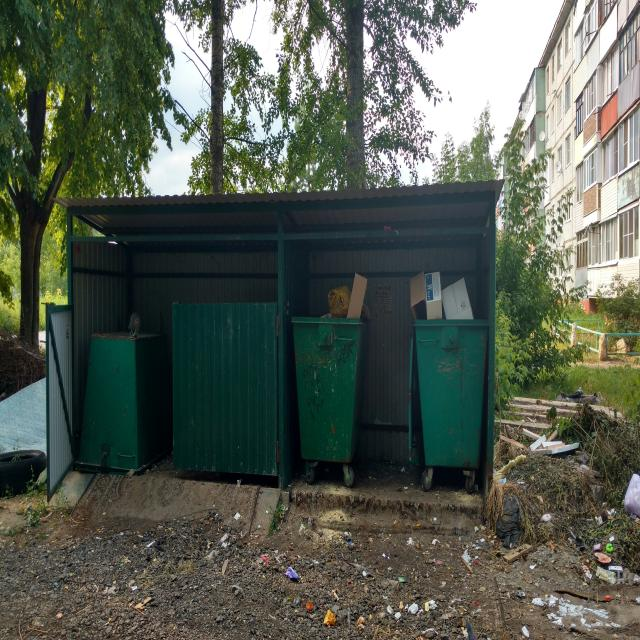bin: (76, 313, 175, 472), (408, 310, 489, 494), (291, 315, 369, 485)
plastic: (411, 271, 474, 319), (320, 273, 371, 322), (492, 487, 527, 548), (547, 597, 609, 627), (556, 387, 604, 406), (493, 454, 526, 479), (624, 473, 640, 519), (503, 544, 533, 564), (534, 441, 579, 454), (596, 566, 616, 585), (570, 529, 586, 552), (499, 435, 526, 448), (591, 619, 621, 629), (529, 434, 546, 451), (521, 428, 541, 440), (323, 610, 336, 626), (284, 566, 299, 579), (608, 565, 623, 578), (545, 594, 559, 607), (595, 552, 611, 563), (577, 452, 589, 464), (462, 548, 471, 563), (606, 508, 617, 520), (546, 431, 558, 442), (531, 597, 546, 605), (408, 603, 418, 614), (541, 513, 551, 522), (429, 599, 437, 609), (522, 626, 529, 637), (595, 516, 603, 525), (234, 512, 241, 521), (306, 601, 313, 610), (606, 543, 613, 552), (498, 477, 507, 484), (347, 607, 350, 627), (529, 563, 537, 570), (594, 543, 600, 552), (261, 555, 268, 562), (435, 559, 443, 565), (407, 537, 413, 545), (398, 577, 407, 582), (425, 601, 429, 612), (382, 553, 389, 559), (479, 587, 486, 593), (609, 536, 615, 543), (399, 601, 404, 609), (574, 451, 583, 455), (432, 539, 437, 546), (474, 526, 479, 533), (479, 525, 486, 530), (584, 623, 591, 628), (636, 596, 640, 604), (362, 570, 367, 576), (605, 595, 611, 600), (601, 502, 606, 508), (475, 546, 482, 550), (382, 595, 388, 599), (404, 603, 408, 609), (490, 539, 494, 545), (419, 608, 424, 612), (480, 538, 485, 542), (586, 628, 592, 631), (474, 601, 478, 605), (387, 567, 392, 570), (434, 517, 437, 522), (475, 556, 479, 559), (458, 537, 461, 541), (475, 561, 478, 564), (487, 546, 489, 550), (456, 539, 458, 542), (454, 543, 456, 545)
